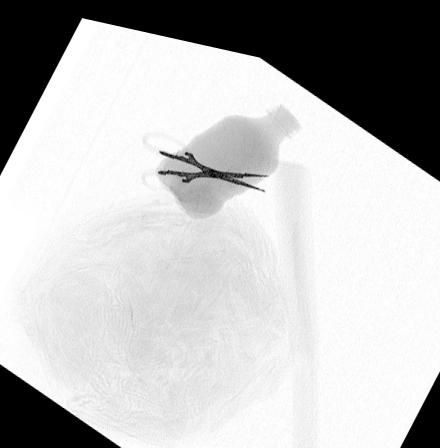Scissors: (137, 122, 272, 185)
